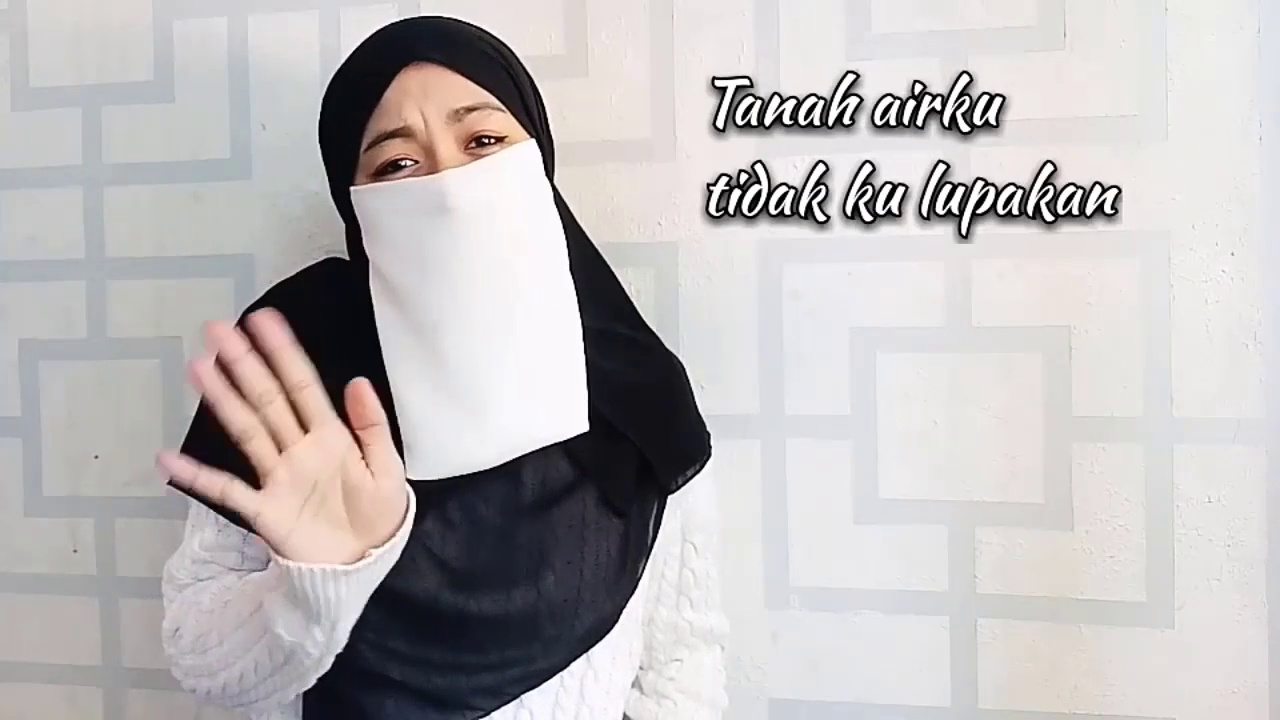TIDAK: (164, 16, 558, 597)
